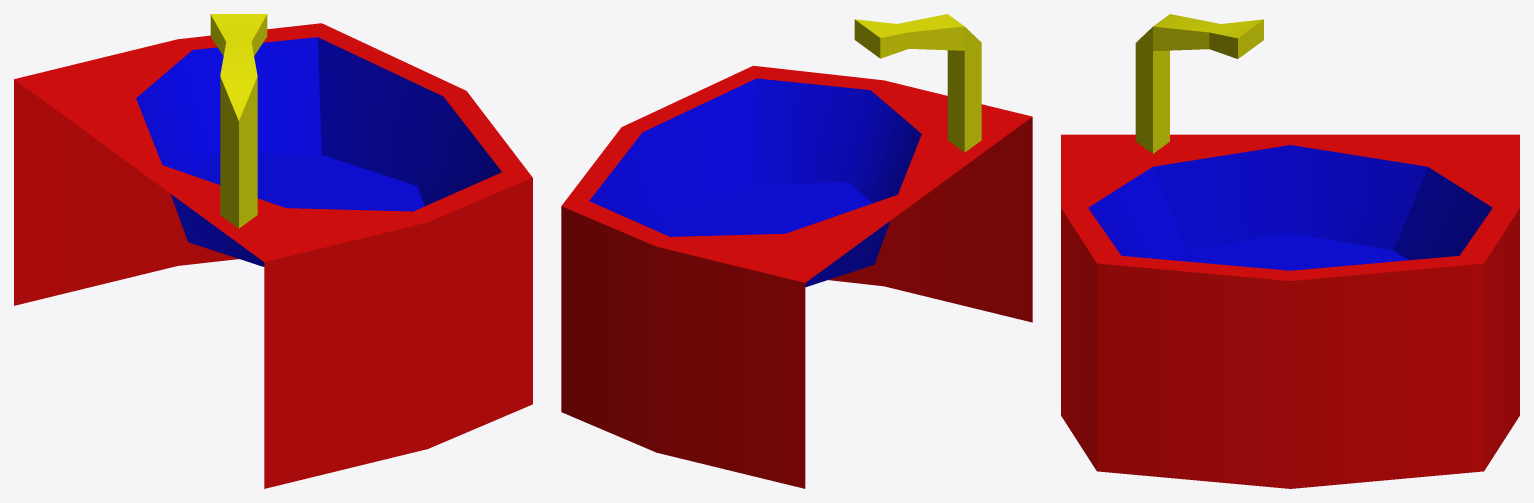
Rendered from Waschbecken_2_low.fbx.
3 renders of one model, left to right at view 1: azimuth 30°, elevation 25°; view 2: azimuth 150°, elevation 25°; view 3: azimuth 270°, elevation 25°, orthographic. The views are drawn at different scales.
Parts seen in each view (by area): view 1: Waschbecken_2_low; view 2: Waschbecken_2_low; view 3: Waschbecken_2_low.
Part boxes in pixels (x1,y1,x2,y2): Waschbecken_2_low: (14, 14, 532, 488); Waschbecken_2_low: (561, 14, 1032, 488); Waschbecken_2_low: (1061, 14, 1519, 488).
Bounding box in the file's own units: 0.7556 × 0.8384 × 1.
